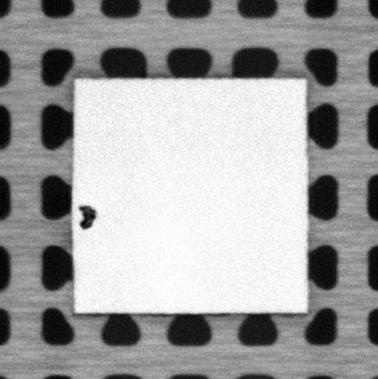DIE_INK: (79, 204, 96, 230)
